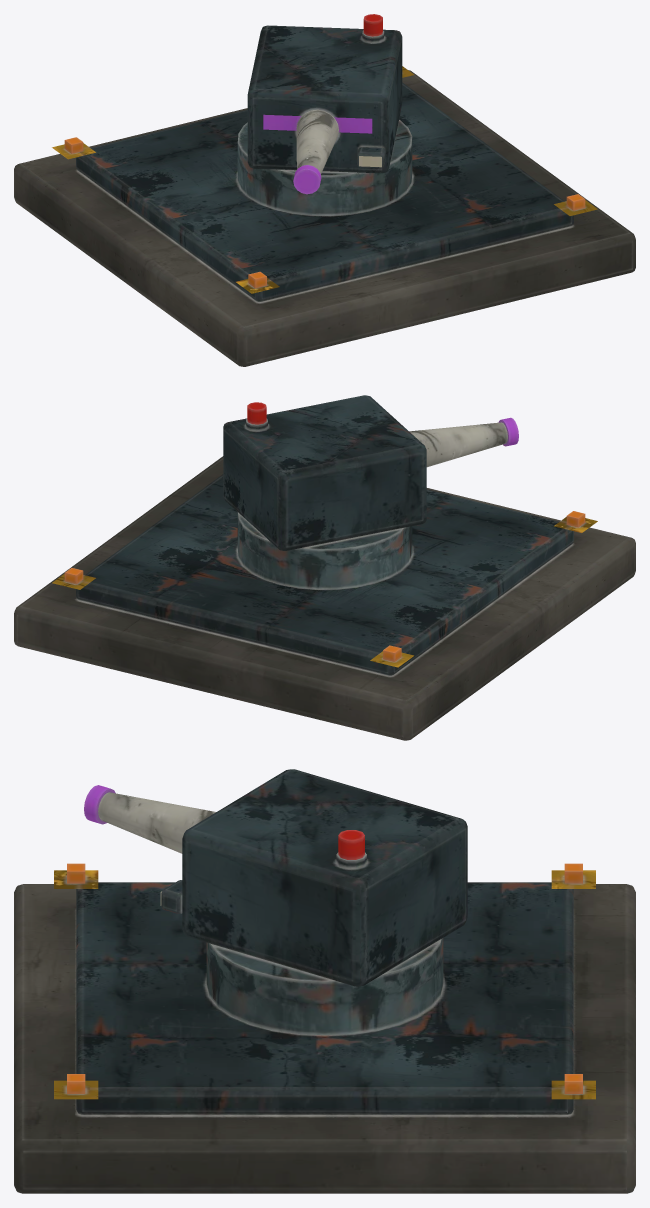
The model's file is pulse_laser.glb.
The picture shows the model from 3 angles, top to bottom: view 1: azimuth 30°, elevation 25°; view 2: azimuth 150°, elevation 25°; view 3: azimuth 270°, elevation 25°; orthographic projection. The views are drawn at different scales.
Parts seen in each view (by area): view 1: te_pulse_laser; view 2: te_pulse_laser; view 3: te_pulse_laser.
Part boxes in pixels (bbox=[...]): te_pulse_laser: bbox=[14, 14, 635, 366]; te_pulse_laser: bbox=[14, 395, 635, 740]; te_pulse_laser: bbox=[14, 769, 635, 1193].
Size of the model in its own units: 0.84 by 0.4008 by 0.84.
1 material, 1 textured.
